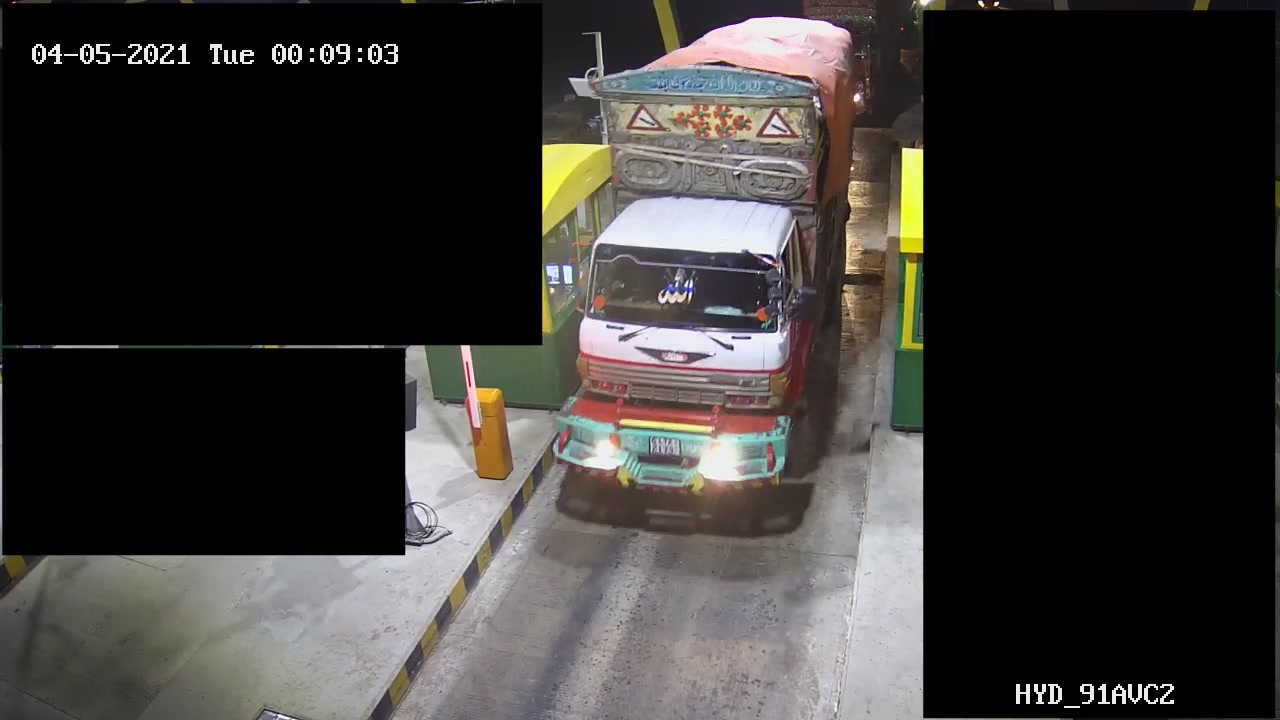F5: (546, 13, 868, 532)
